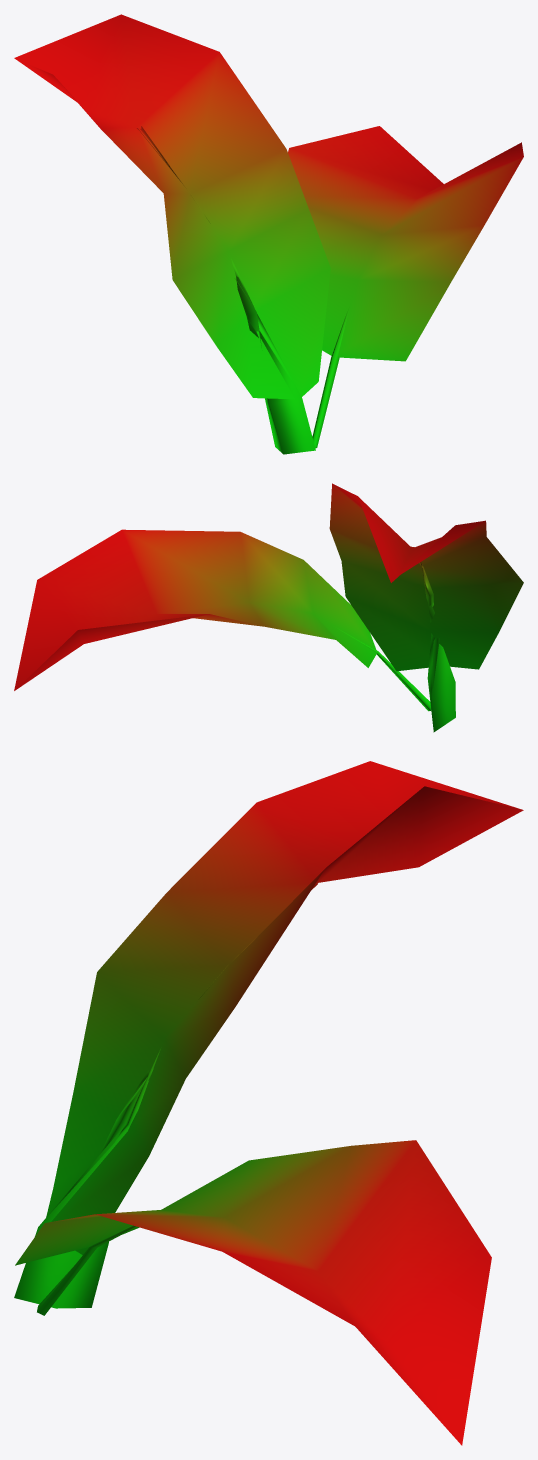
The model's file is Lady Fern_LOD4_Var8_wdvlditia.fbx.
3 renders of one model, top to bottom at view 1: azimuth 30°, elevation 25°; view 2: azimuth 150°, elevation 25°; view 3: azimuth 270°, elevation 25°, orthographic. The views are drawn at different scales.
Visible parts, largest first — view 1: _3c8n_Var8_LOD4; view 2: _3c8n_Var8_LOD4; view 3: _3c8n_Var8_LOD4.
Part boxes in pixels (x1,y1,x2,y2): _3c8n_Var8_LOD4: (14,14,523,454); _3c8n_Var8_LOD4: (14,483,523,732); _3c8n_Var8_LOD4: (14,761,523,1445).
Size of the model in its own units: 35.88 by 26.23 by 24.37.
